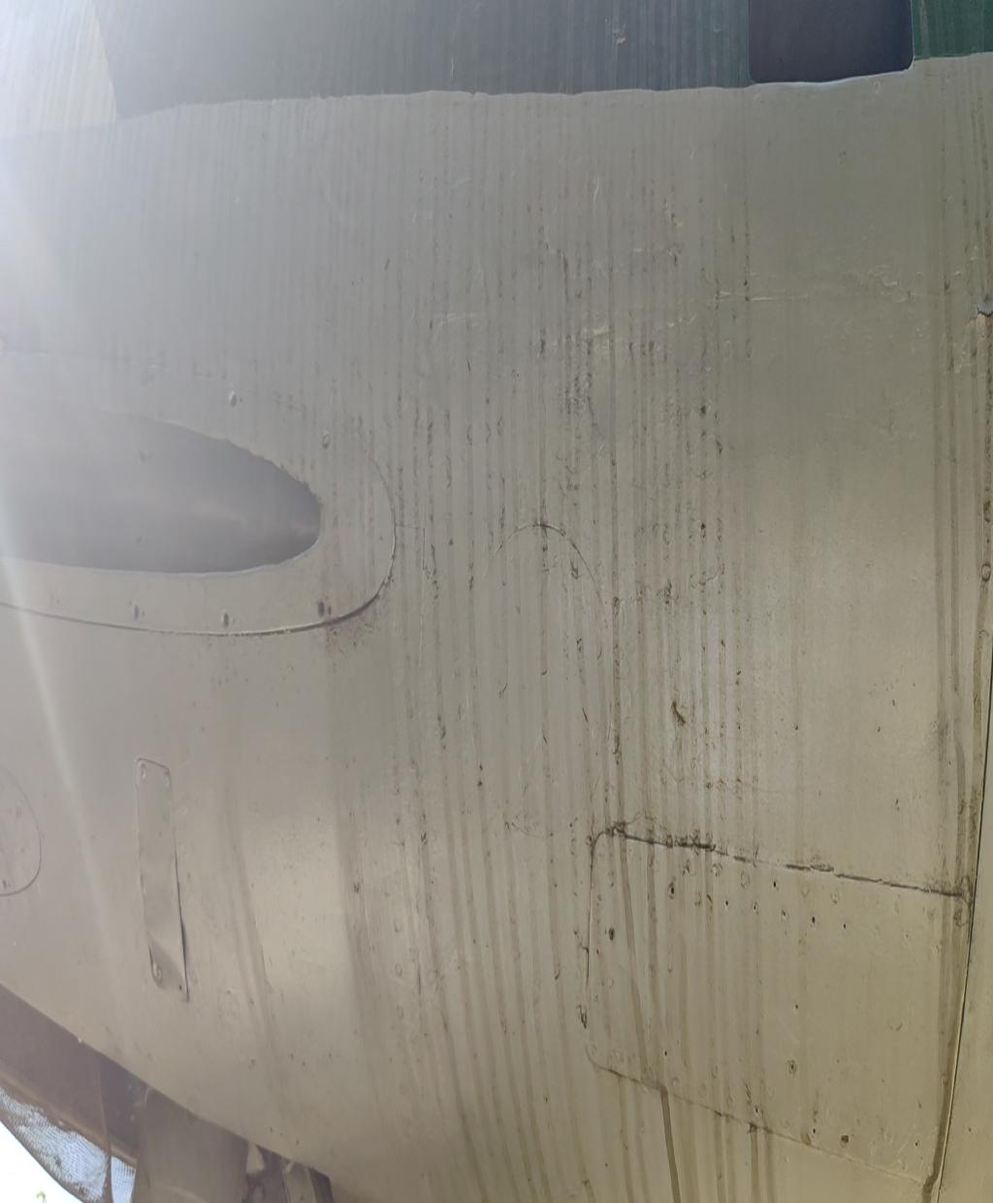dent: (141, 938, 189, 1007)
